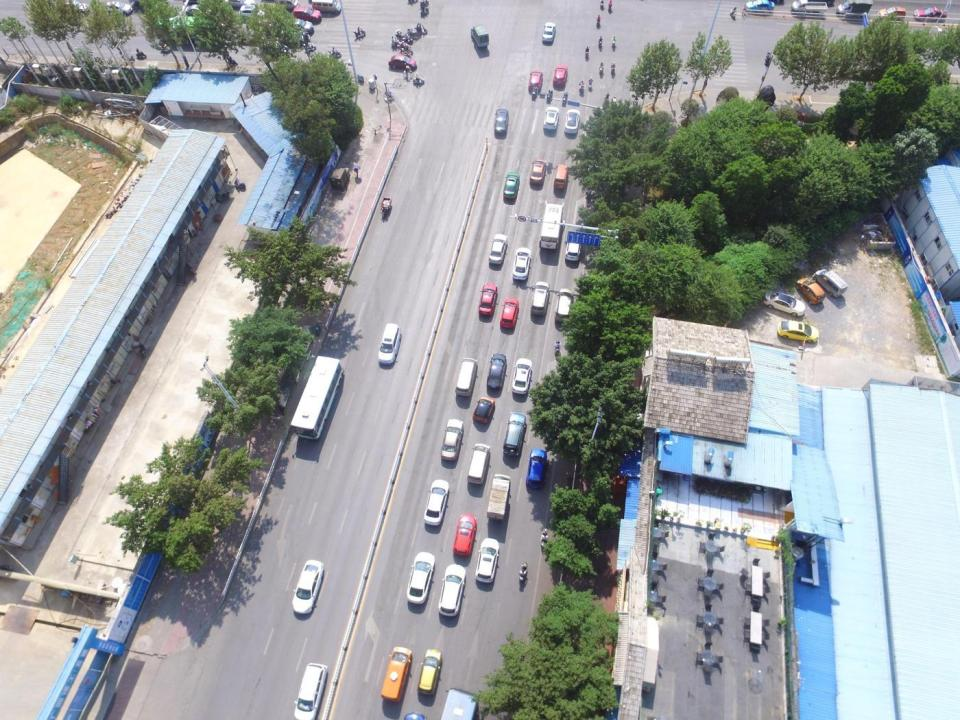bus: (292, 356, 344, 440), (156, 16, 227, 38), (439, 687, 479, 719), (540, 200, 566, 248)
car: (293, 662, 328, 718), (292, 559, 324, 615), (406, 552, 434, 604), (438, 563, 465, 615), (763, 288, 806, 316), (423, 480, 449, 526), (417, 649, 442, 695), (502, 411, 527, 456), (475, 538, 499, 582), (453, 513, 476, 556), (441, 418, 463, 462), (778, 319, 818, 343), (796, 276, 825, 305), (527, 448, 547, 489), (486, 353, 507, 390), (511, 358, 533, 393), (512, 248, 531, 281), (478, 283, 497, 315), (499, 298, 519, 328), (472, 396, 494, 423), (489, 235, 507, 264), (528, 158, 547, 184), (504, 172, 520, 200), (280, 30, 307, 46), (186, 4, 221, 16), (292, 6, 320, 21), (388, 54, 416, 69), (544, 106, 560, 131), (915, 7, 947, 19), (494, 109, 509, 133), (528, 69, 544, 91), (552, 65, 568, 87), (61, 0, 90, 12), (565, 108, 579, 132), (744, 0, 774, 11), (105, 2, 132, 14), (879, 6, 905, 18), (543, 22, 556, 43)
van: (380, 646, 412, 702), (487, 473, 511, 521), (812, 266, 847, 298), (378, 324, 401, 366), (467, 443, 490, 484), (455, 358, 478, 396), (529, 281, 549, 315), (554, 288, 574, 322), (835, 0, 871, 14), (792, 0, 827, 13), (285, 17, 312, 33), (470, 25, 488, 49), (312, 0, 342, 14), (565, 235, 581, 261), (239, 5, 270, 18), (554, 164, 568, 190), (267, 0, 298, 9)
